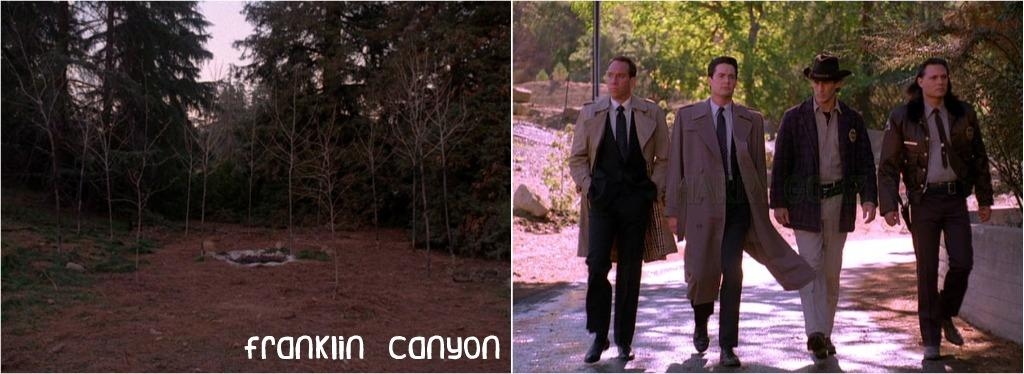face: (606, 62, 630, 96), (923, 65, 948, 97), (713, 64, 736, 96), (812, 76, 834, 103)
